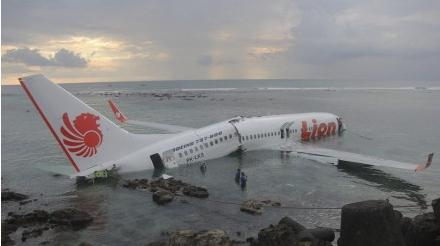airplane: (14, 73, 349, 190)
